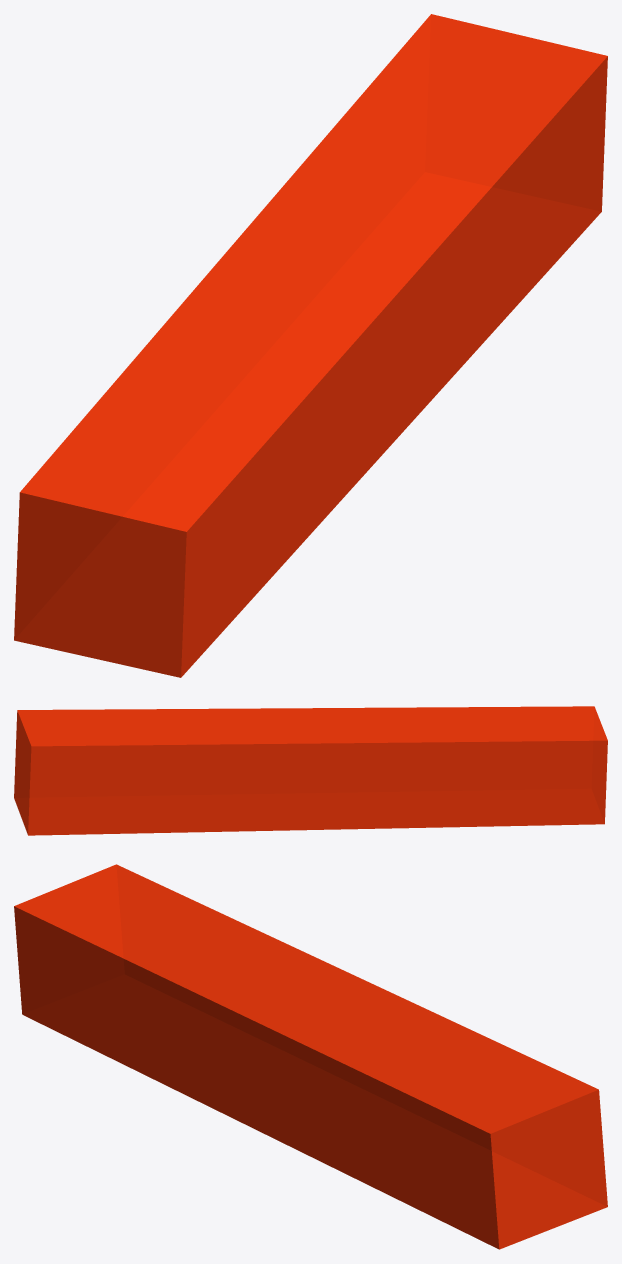
Rendered from Event_421364160_EBrechit_30.fbx.
3 views of the same model, one above another, from view 1: azimuth 30°, elevation 25°; view 2: azimuth 150°, elevation 25°; view 3: azimuth 270°, elevation 25° (orthographic). The views are drawn at different scales.
Parts seen in each view (by area): view 1: Model; view 2: Model; view 3: Model.
Part boxes in pixels (left/top/right/bottom): Model: left=14, top=14, right=607, bottom=677; Model: left=14, top=706, right=607, bottom=835; Model: left=14, top=864, right=607, bottom=1249.
Size of the model in its own units: 0.3258 by 0.0784 by 0.2739.
